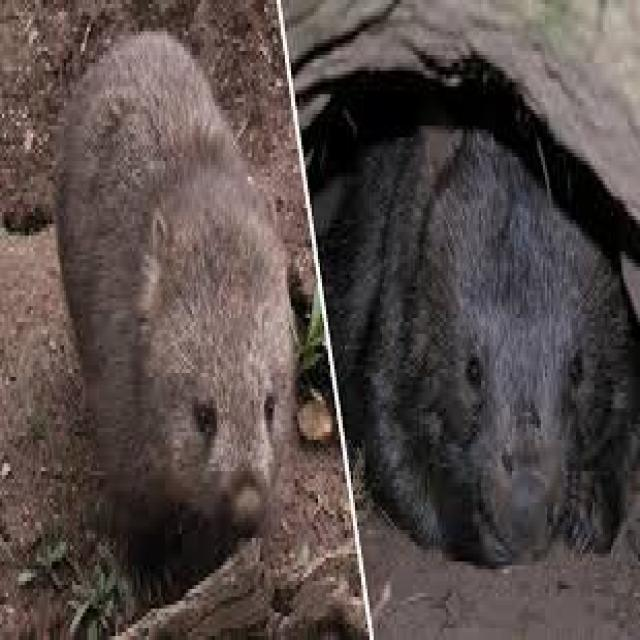Wombat: (337, 107, 634, 573), (55, 26, 297, 525)
